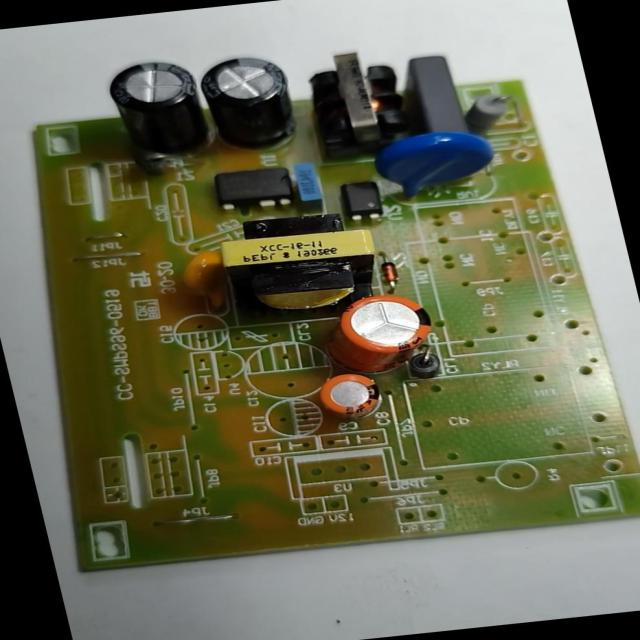Cap1: (320, 289, 444, 380)
Cap2: (313, 371, 386, 419)
Cap3: (196, 52, 302, 153)
Cap4: (104, 55, 210, 159)
MOSFET: (205, 161, 301, 213)
Mov: (366, 125, 507, 207)
Resistor: (462, 89, 519, 131)
Transformer: (206, 207, 393, 321), (298, 46, 417, 165)
